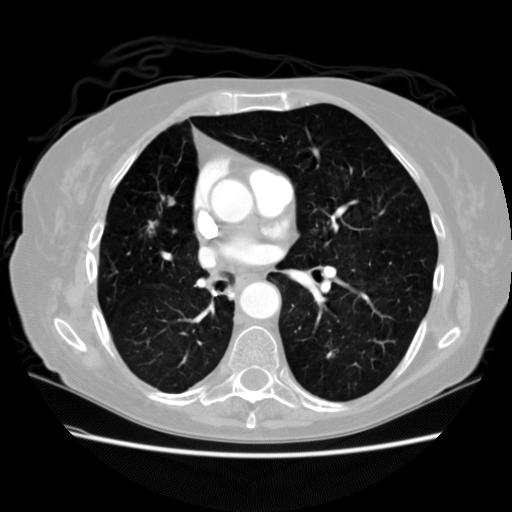nodule: (163, 194, 178, 209)
